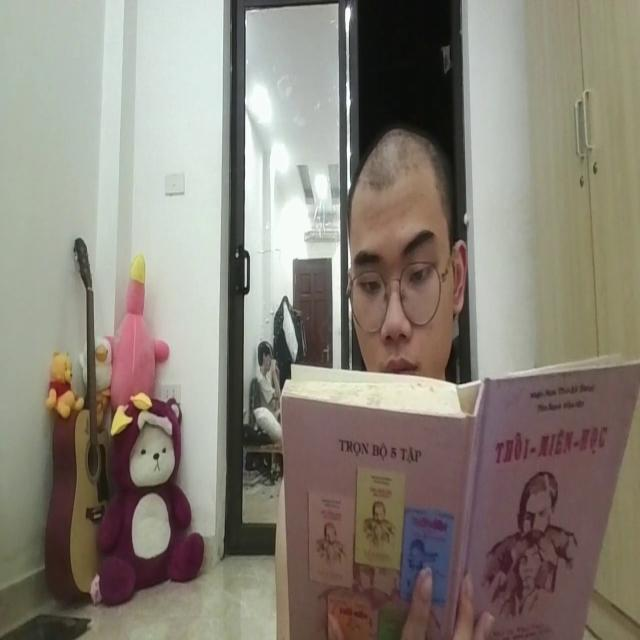book: (277, 346, 638, 640)
extra_person: (258, 313, 293, 434)
student: (344, 125, 468, 375)
